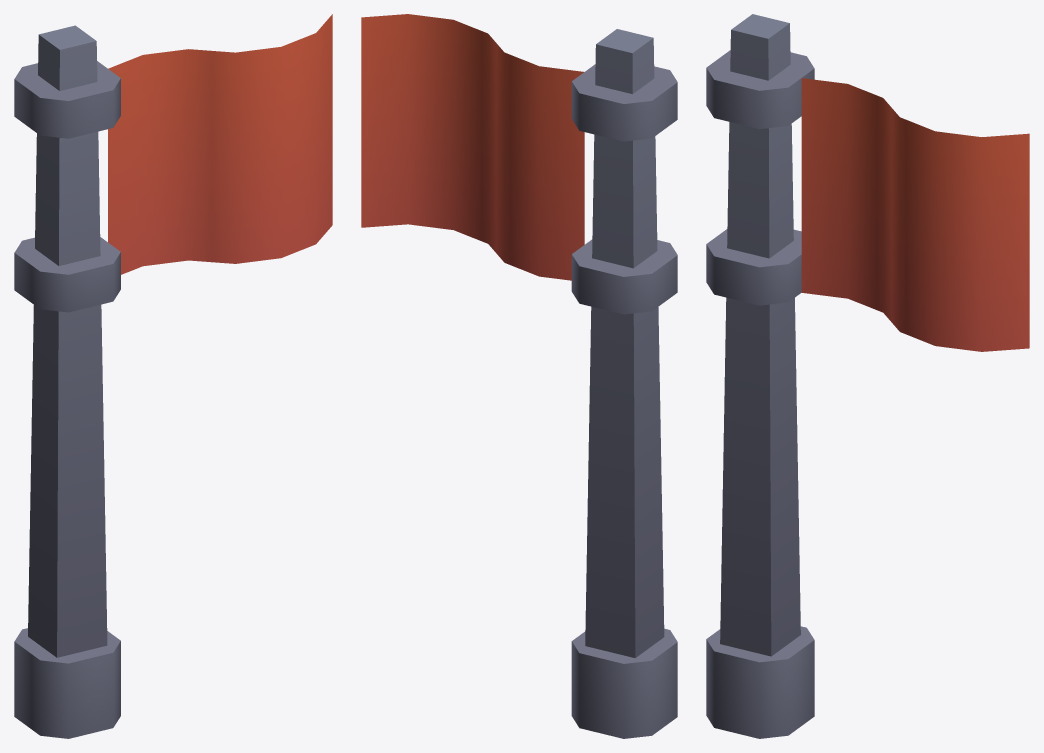
The model's file is flag.glb.
The picture shows the model from 3 angles, left to right: view 1: azimuth 30°, elevation 25°; view 2: azimuth 150°, elevation 25°; view 3: azimuth 330°, elevation 25°; orthographic projection. The views are drawn at different scales.
Visible parts, largest first — view 1: flag; view 2: flag; view 3: flag.
Part boxes in pixels (<box>): flag: <box>14,14,332,738</box>; flag: <box>361,14,677,738</box>; flag: <box>706,14,1029,738</box>.
Size of the model in its own units: 0.8469 by 1.8 by 0.2239.
1 material, 1 textured.
